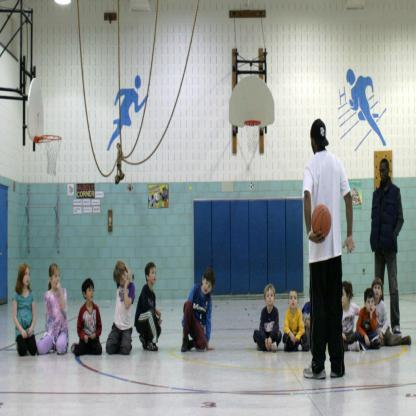Ball: (312, 203, 330, 237)
